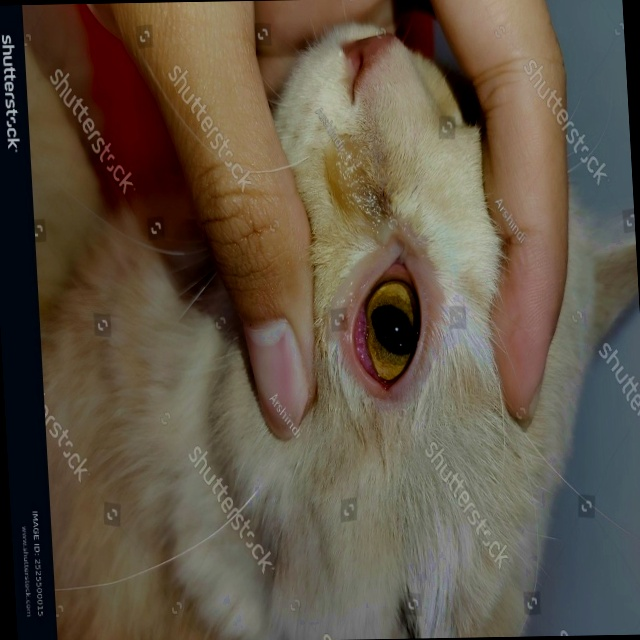eye_infection: (345, 251, 434, 392)
